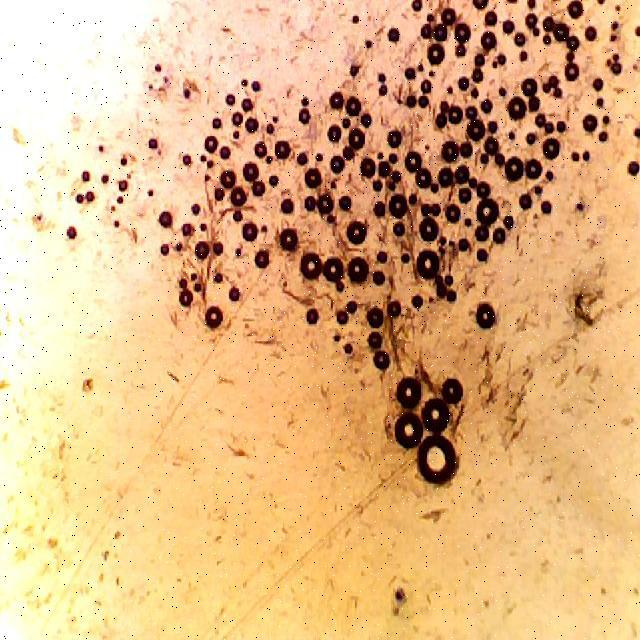microbeads: (417, 436, 459, 488)
